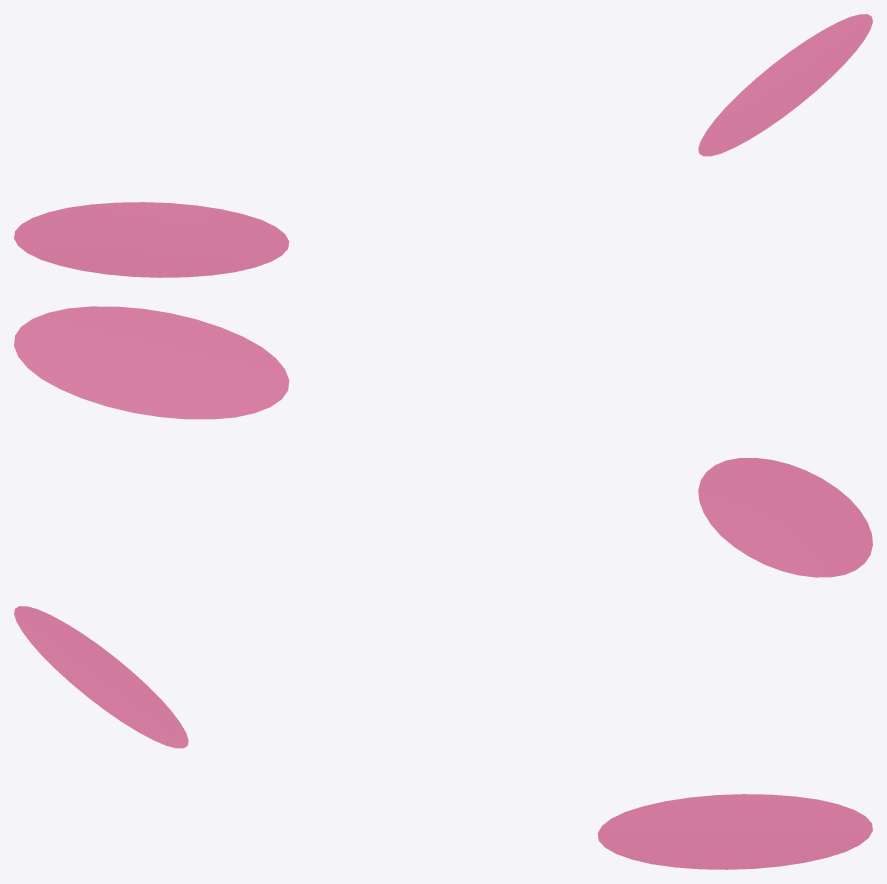
Rendered from Blush.glb.
3 renders of one model, top to bottom at view 1: azimuth 30°, elevation 25°; view 2: azimuth 150°, elevation 25°; view 3: azimuth 330°, elevation 25°, orthographic.
Visible parts, largest first — view 1: Blush; view 2: Blush; view 3: Blush.
Part boxes in pixels (x1=…): Blush: x1=14, y1=14, x2=872, y2=277; Blush: x1=14, y1=306, x2=872, y2=577; Blush: x1=14, y1=606, x2=872, y2=869.
Size of the model in its own units: 0.4756 by 0.0497 by 0.052.
